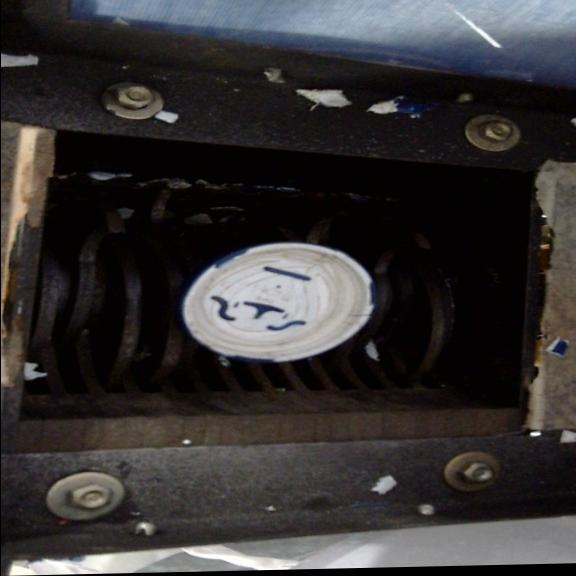Plastik: (171, 216, 390, 378)
